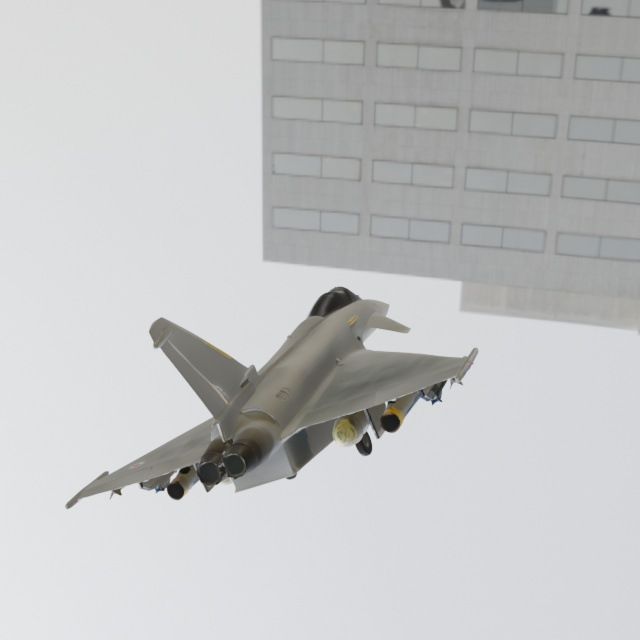eurofighter_typhoon_3d: (0, 138, 563, 628)
